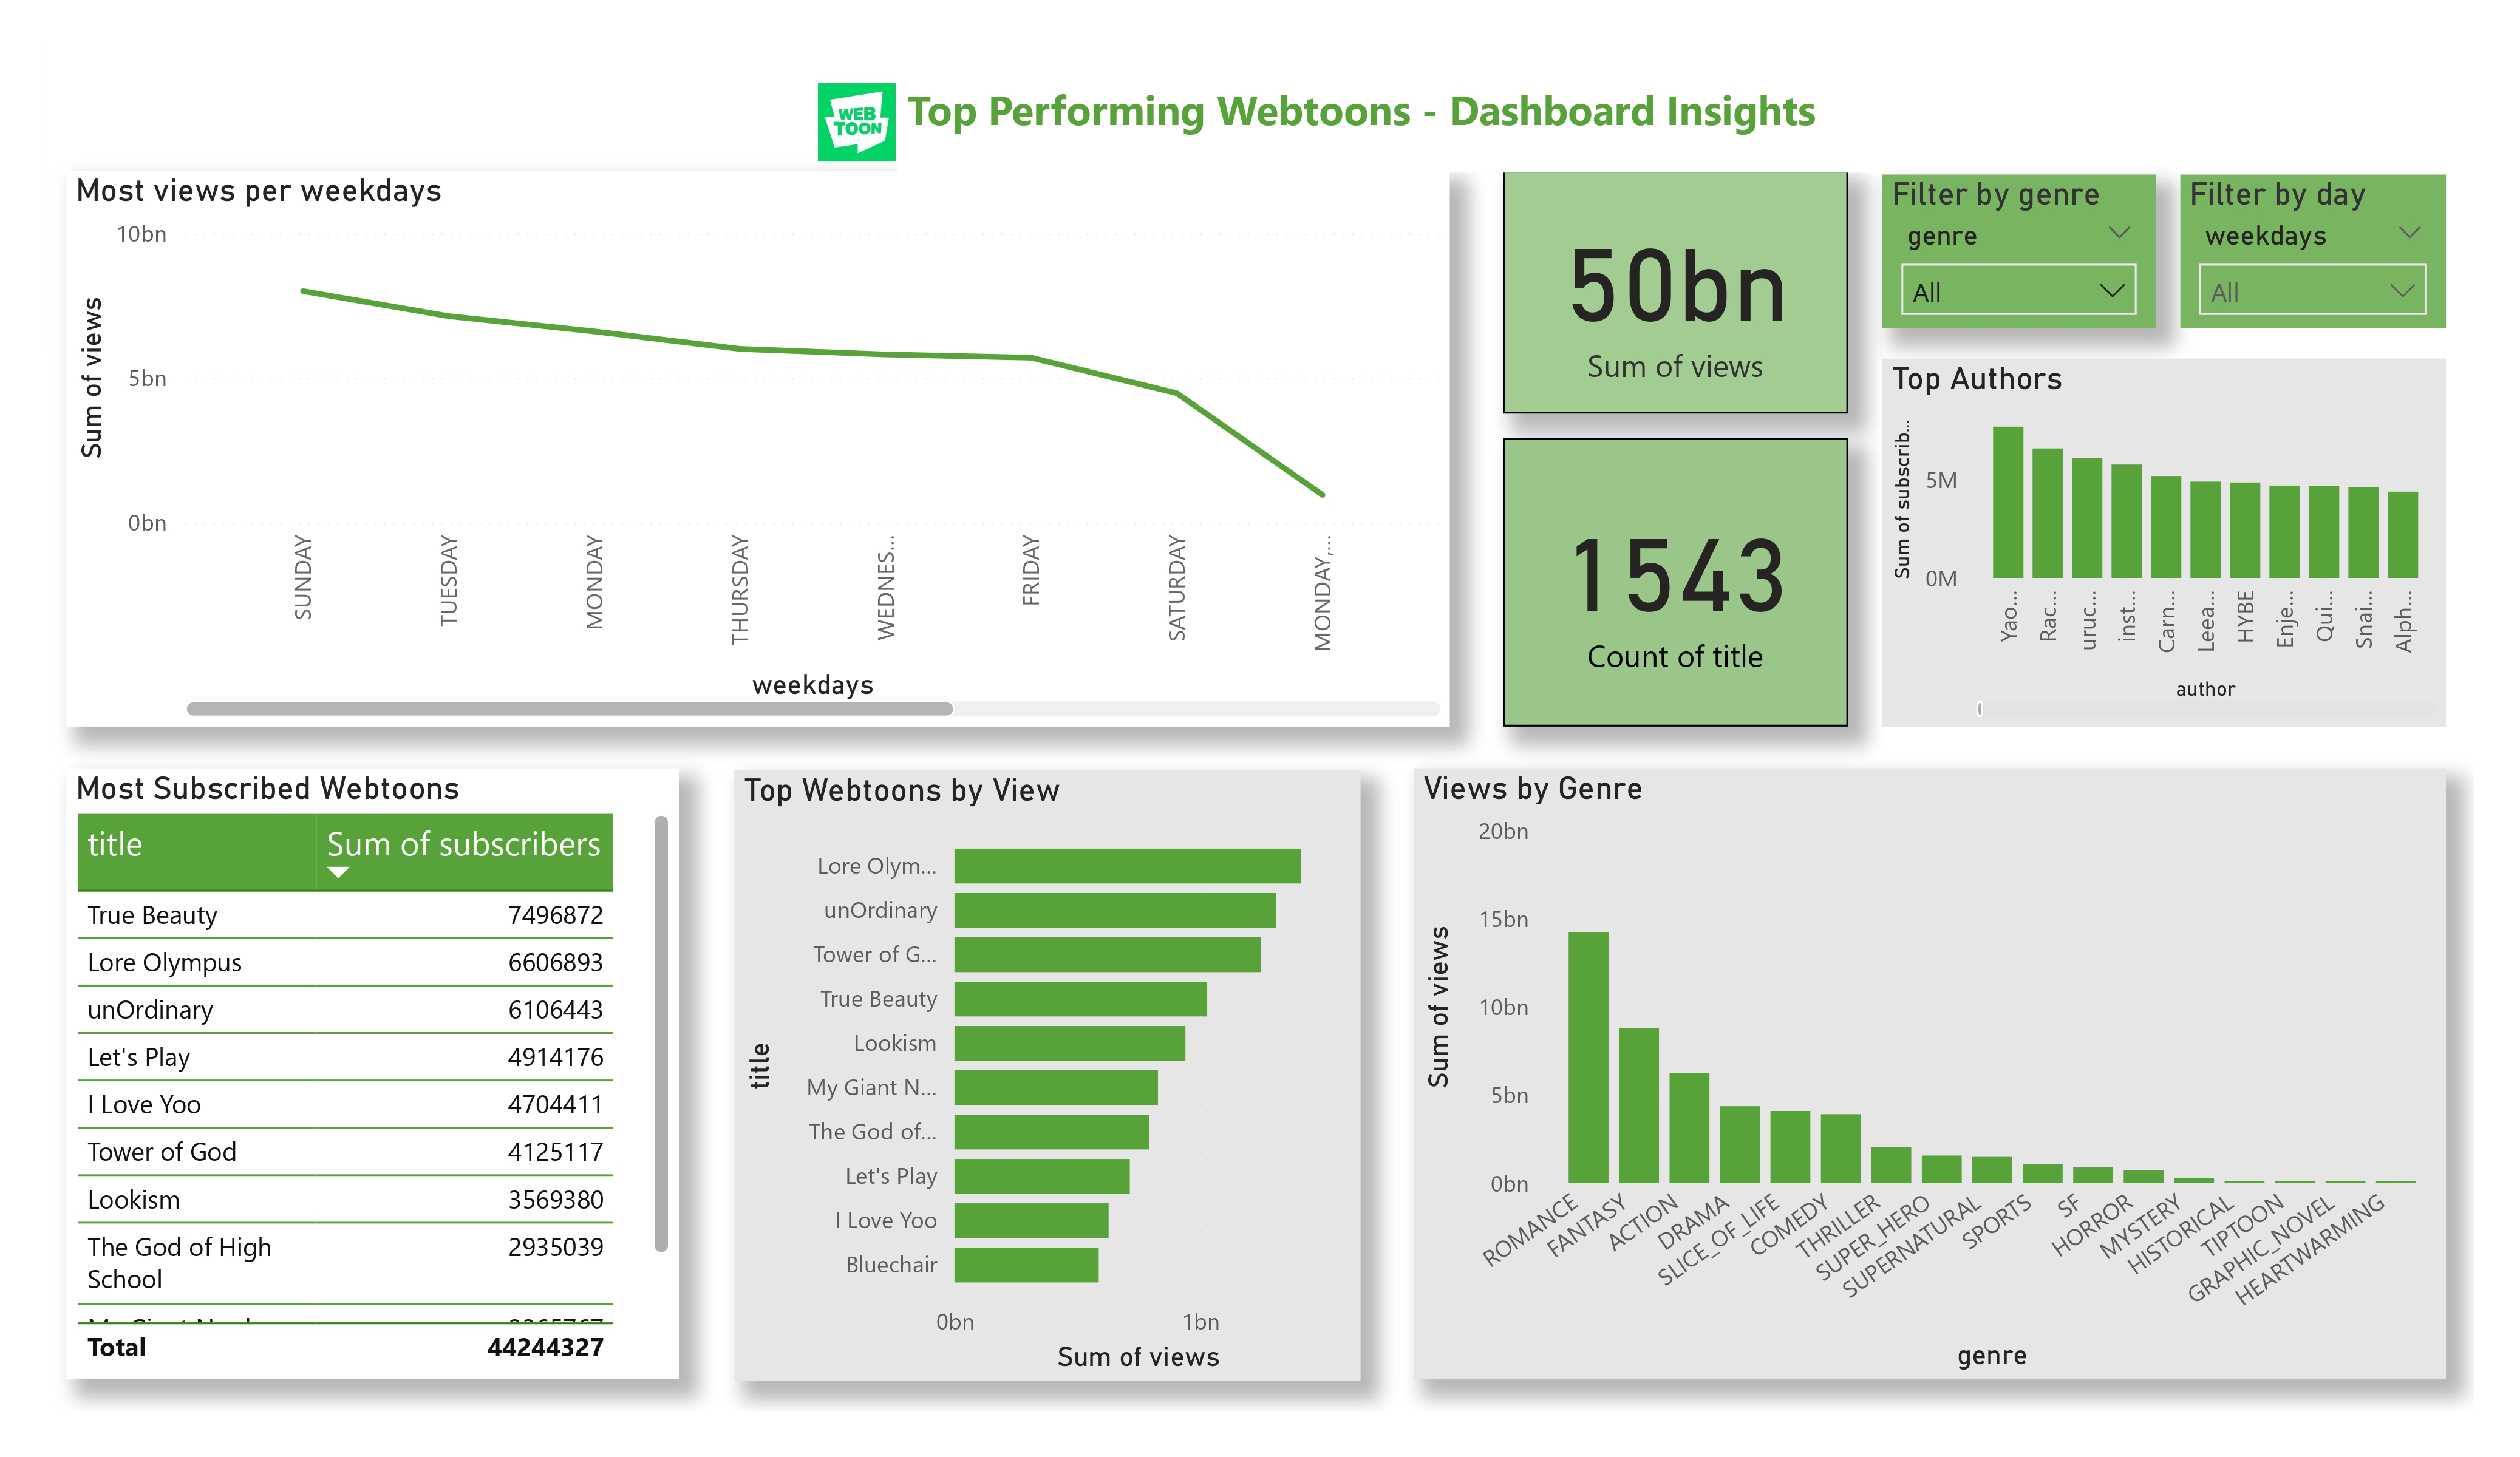

Layout of this report page (visuals, bound fields, positions):
{"tool":"powerbi","page":{"name":"Page 1","canvas":[1280,720],"ordinal":0},"visuals":[{"type":"clusteredBarChart","title":"Top Webtoons by View","fields":{"Category":["Query1.title"],"Y":["Query1.views"]},"box":[362.7,382.1,330.3,322.2],"z":0},{"type":"clusteredColumnChart","title":"Views by Genre","fields":{"Category":["Query1.genre"],"Y":["Query1.views"]},"box":[720.6,380.5,544.1,322.2],"z":1000},{"type":"lineChart","title":"Most views per weekdays","fields":{"Category":["Query1.weekdays"],"Y":["Query1.views"]},"box":[11.3,66.4,728.7,293.1],"z":2000},{"type":"tableEx","title":"Most Subscribed Webtoons","fields":{"Values":["Query1.title","Query1.subscribers"]},"box":[11.3,380.5,322.2,322.2],"z":3000},{"type":"card","fields":{"Values":["Query1.views"]},"box":[767.5,66.4,183,127.9],"z":4000},{"type":"qnaVisual","box":[1264.3,287.2,15.1,13.2],"z":5000},{"type":"textbox","box":[449,14.2,520.1,52.8],"z":6000},{"type":"card","fields":{"Values":["Query1.title"]},"box":[767.5,207.3,183,152.2],"z":7000},{"type":"image","box":[362.7,14.6,127.9,51.8],"z":8000},{"type":"slicer","title":"Filter by genre","fields":{"Values":["Query1.genre"]},"box":[968.3,68,144.1,81],"z":9000},{"type":"slicer","title":"Filter by day","fields":{"Values":["Query1.weekdays"]},"box":[1125.4,68,139.3,81],"z":10000},{"type":"columnChart","title":"Top Authors","fields":{"Category":["Query1.author"],"Y":["Query1.subscribers"]},"box":[968.3,165.2,296.3,194.3],"z":11000}]}

Visuals, with their boxes on the page's 1280x720 design canvas (x1, y1, x2, y2). These are canvas units, not pixel positions in the 2520x1457 screenshot, which may show the page scaled, cropped or inside an application window:
"Top Webtoons by View" clusteredBarChart: bbox=[363, 382, 693, 704]
"Views by Genre" clusteredColumnChart: bbox=[721, 380, 1265, 703]
"Most views per weekdays" lineChart: bbox=[11, 66, 740, 360]
"Most Subscribed Webtoons" tableEx: bbox=[11, 380, 334, 703]
card - Query1.views: bbox=[768, 66, 950, 194]
qnaVisual: bbox=[1264, 287, 1279, 300]
textbox: bbox=[449, 14, 969, 67]
card - Query1.title: bbox=[768, 207, 950, 360]
image: bbox=[363, 15, 491, 66]
"Filter by genre" slicer: bbox=[968, 68, 1112, 149]
"Filter by day" slicer: bbox=[1125, 68, 1265, 149]
"Top Authors" columnChart: bbox=[968, 165, 1265, 360]
